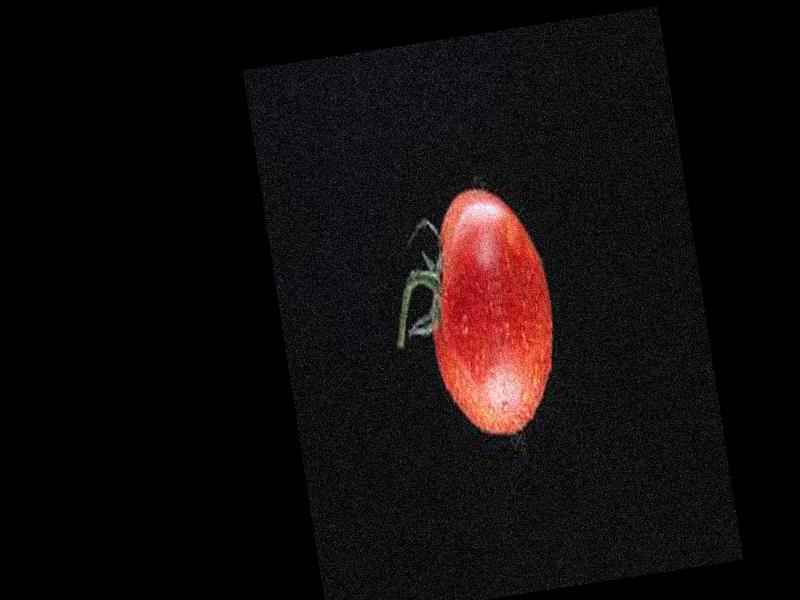Tomato: (411, 180, 569, 444)
